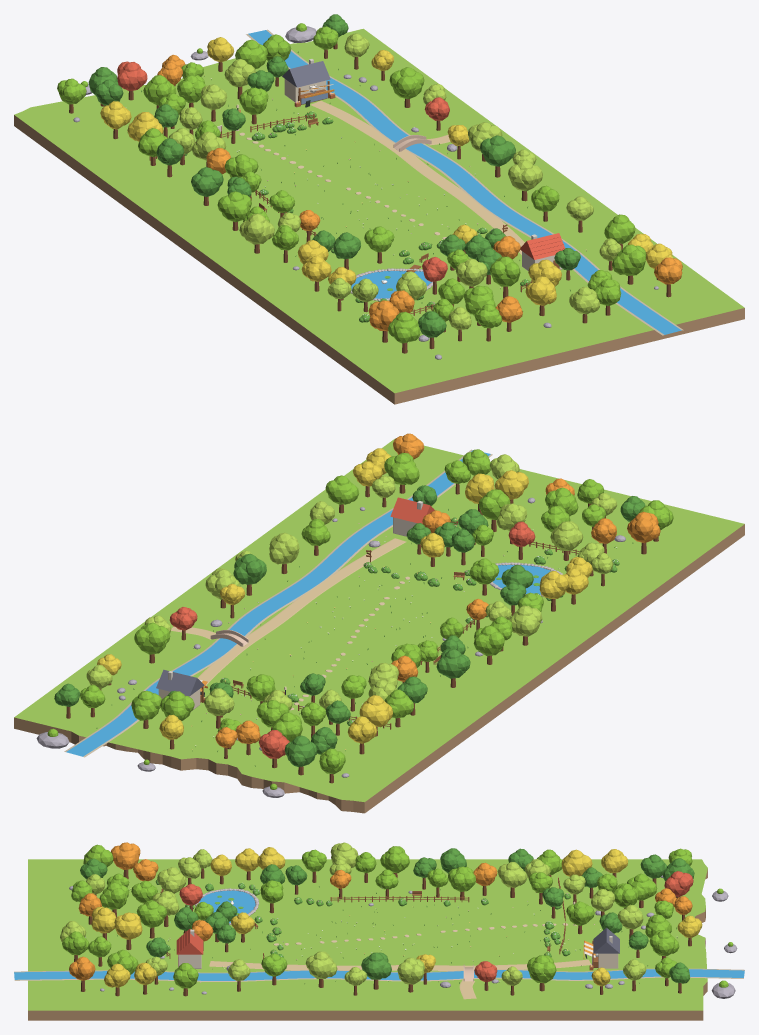
File: diary-village-v3.glb
The picture shows the model from 3 angles, top to bottom: view 1: azimuth 30°, elevation 25°; view 2: azimuth 150°, elevation 25°; view 3: azimuth 270°, elevation 25°; orthographic projection. The views are drawn at different scales.
Parts seen in each view (by area): view 1: V3 Ground, V3 River, V3 Path Shop to House, V3 Shop Stall, V3 Flower Bushes, V3 Rocks, V3 House, V3 Pond, V3 Tree 83, V3 Tree 66, V3 Tree 43, V3 Tree 03 (+19 smaller); view 2: V3 Ground, V3 River, V3 Path Shop to House, V3 Rocks, V3 Flower Bushes, V3 Shop Stall, V3 House, V3 Tree 83, V3 Tree 66, V3 Tree 43, V3 Tree 90, V3 Tree 03 (+21 smaller); view 3: V3 Ground, V3 River, V3 Flower Bushes, V3 Shop Stall, V3 Path Shop to House, V3 Pond, V3 Rocks, V3 House, V3 Tree 43, V3 Tree 66, V3 Tree 03, V3 Tree 90 (+78 smaller).
Part boxes in pixels (bbox=[...]): V3 Ground: bbox=[14, 28, 744, 404]; V3 River: bbox=[246, 29, 683, 335]; V3 Path Shop to House: bbox=[310, 100, 524, 254]; V3 Shop Stall: bbox=[282, 59, 335, 107]; V3 Flower Bushes: bbox=[184, 111, 531, 322]; V3 Rocks: bbox=[73, 23, 658, 359]; V3 House: bbox=[520, 233, 565, 270]; V3 Pond: bbox=[350, 268, 432, 300]; V3 Tree 83: bbox=[612, 244, 646, 284]; V3 Tree 66: bbox=[389, 67, 424, 107]; V3 Tree 43: bbox=[480, 135, 515, 177]; V3 Tree 03: bbox=[508, 159, 542, 201]; V3 Ground: bbox=[14, 439, 744, 813]; V3 River: bbox=[64, 449, 492, 757]; V3 Path Shop to House: bbox=[197, 538, 406, 691]; V3 Rocks: bbox=[36, 497, 625, 797]; V3 Flower Bushes: bbox=[220, 517, 619, 725]; V3 Shop Stall: bbox=[156, 669, 207, 710]; V3 House: bbox=[390, 497, 434, 536]; V3 Tree 83: bbox=[384, 452, 419, 493]; V3 Tree 66: bbox=[134, 622, 170, 663]; V3 Tree 43: bbox=[233, 553, 266, 595]; V3 Tree 90: bbox=[627, 511, 660, 554]; V3 Tree 03: bbox=[269, 532, 299, 573]; V3 Ground: bbox=[28, 859, 707, 1020]; V3 River: bbox=[14, 968, 744, 981]; V3 Flower Bushes: bbox=[155, 880, 570, 957]; V3 Shop Stall: bbox=[583, 927, 619, 970]; V3 Path Shop to House: bbox=[209, 959, 591, 970]; V3 Pond: bbox=[195, 888, 258, 924]; V3 Rocks: bbox=[69, 875, 737, 998]; V3 House: bbox=[176, 929, 203, 968]; V3 Tree 43: bbox=[361, 952, 391, 989]; V3 Tree 66: bbox=[527, 955, 556, 991]; V3 Tree 03: bbox=[305, 951, 337, 987]; V3 Tree 90: bbox=[111, 842, 140, 878].
Size of what is drawn, in the model's own units: 52 by 7.39 by 106.
